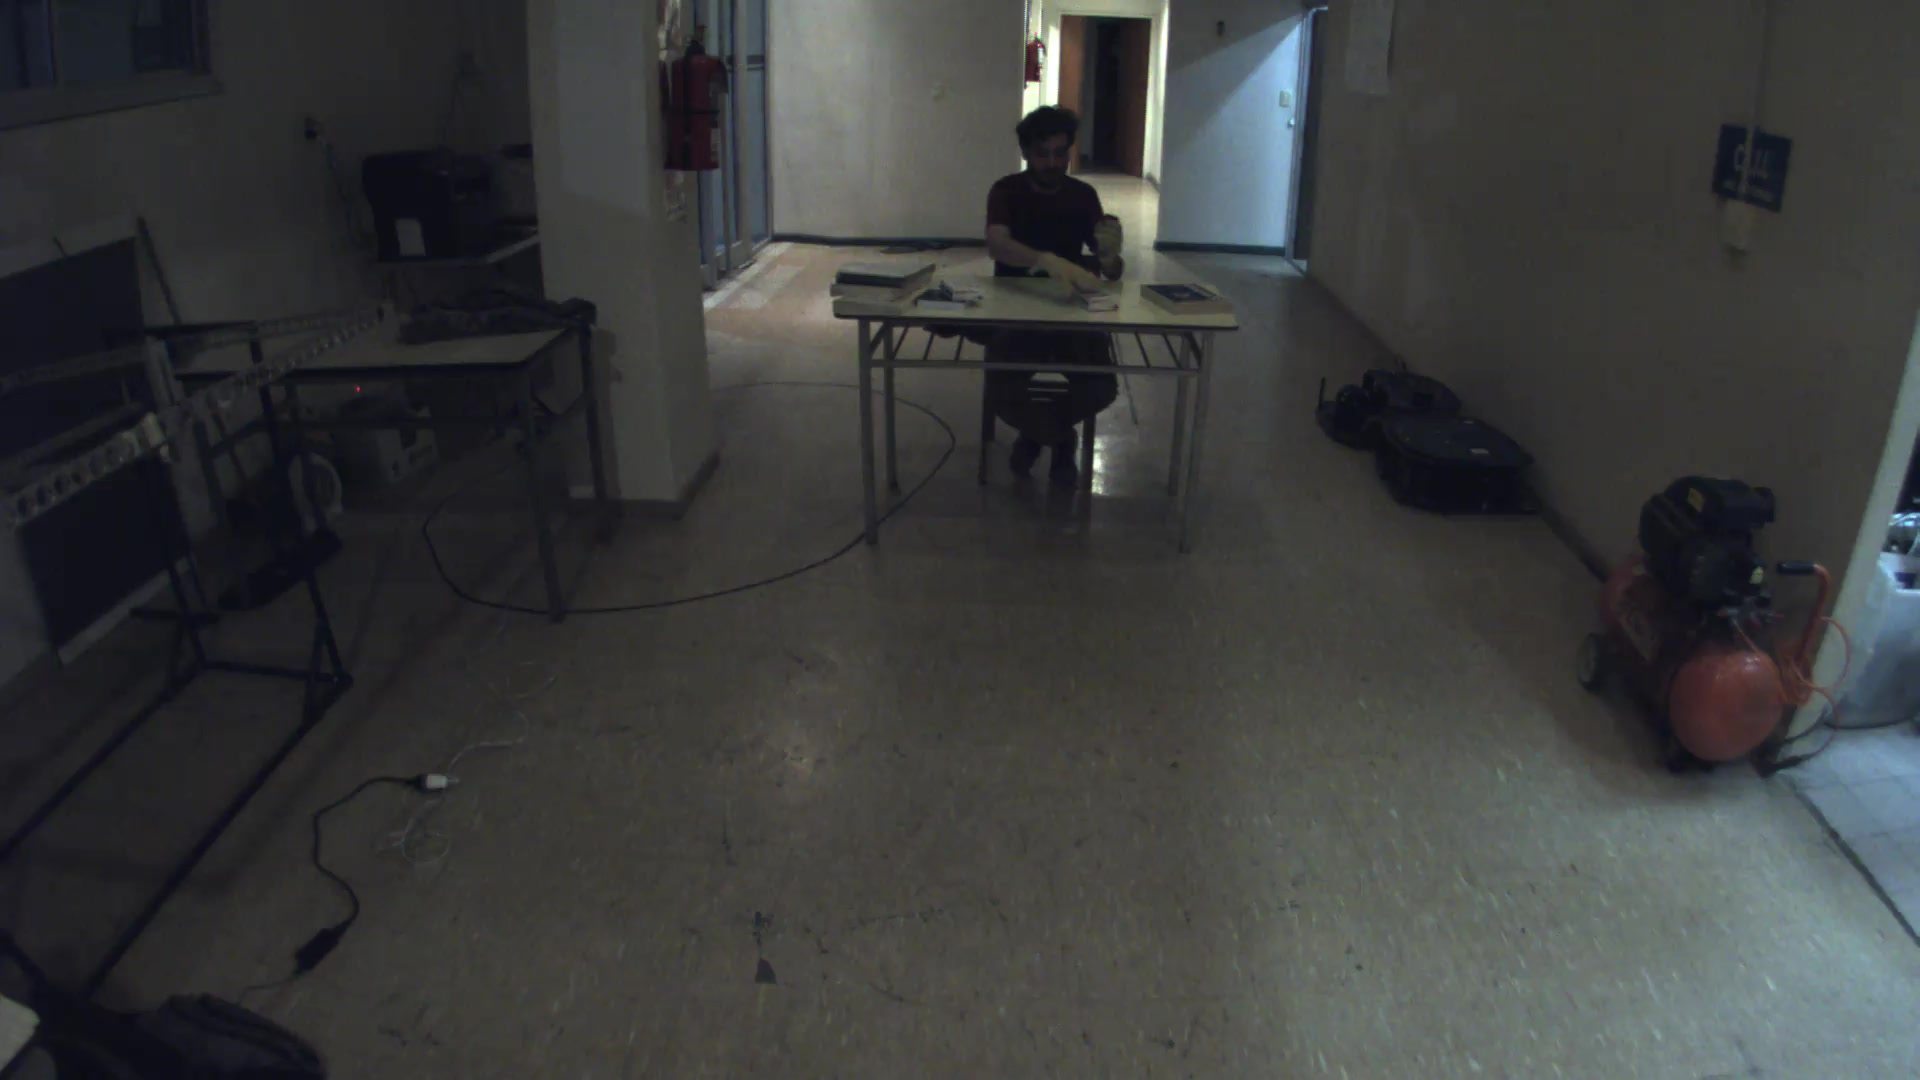hand: (1036, 249, 1101, 302), (1083, 214, 1127, 256)
